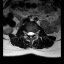CCS_normal: (29, 29, 32, 40)
LFS_normal: (34, 29, 36, 37)
LLS_normal: (32, 29, 34, 37)
RFS_normal: (25, 29, 27, 37)
RLS_normal: (27, 29, 29, 37)
